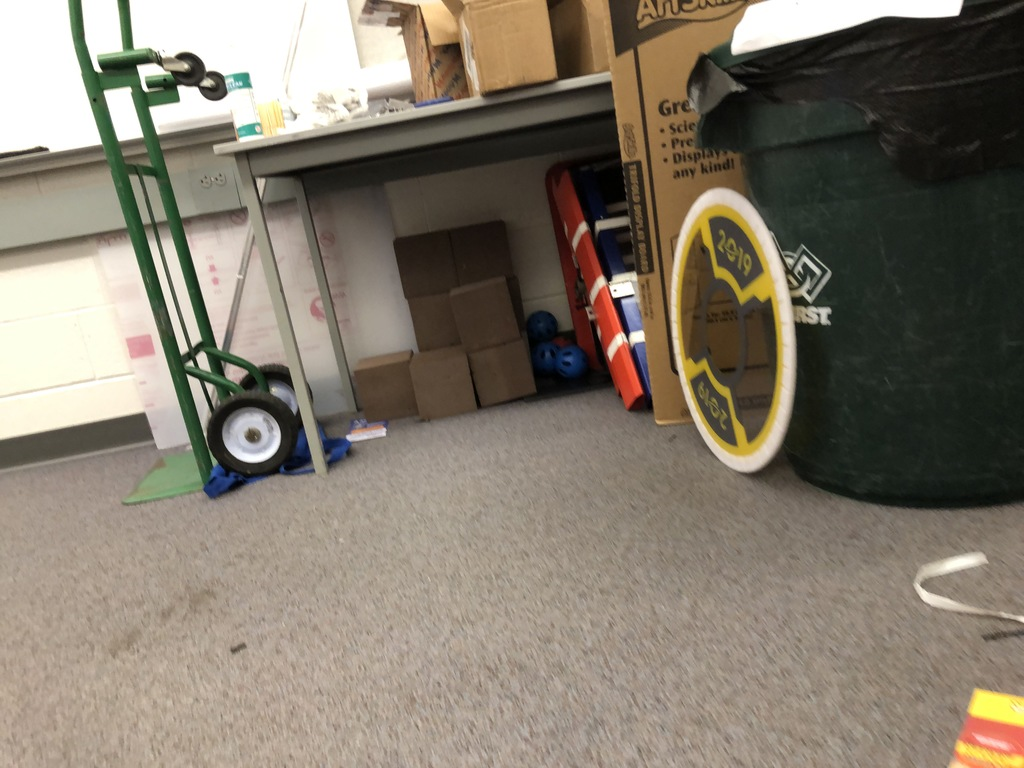hatch_panel: (656, 154, 809, 497)
